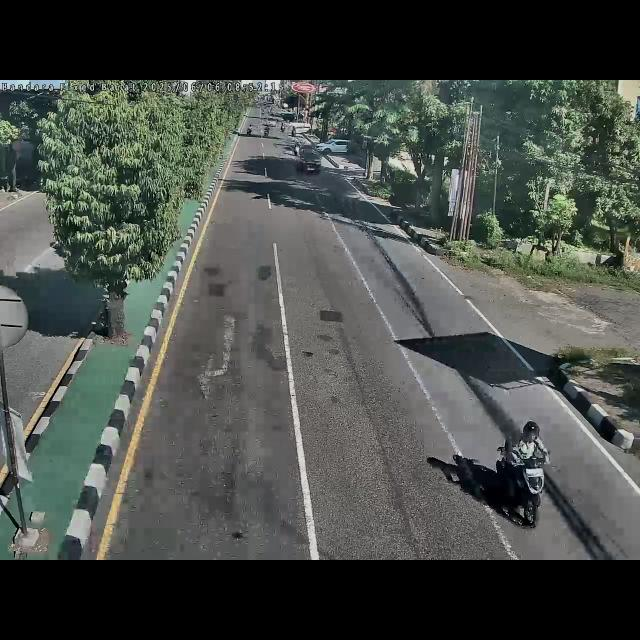Mobil: (294, 143, 326, 179)
Motor: (499, 416, 555, 534)
